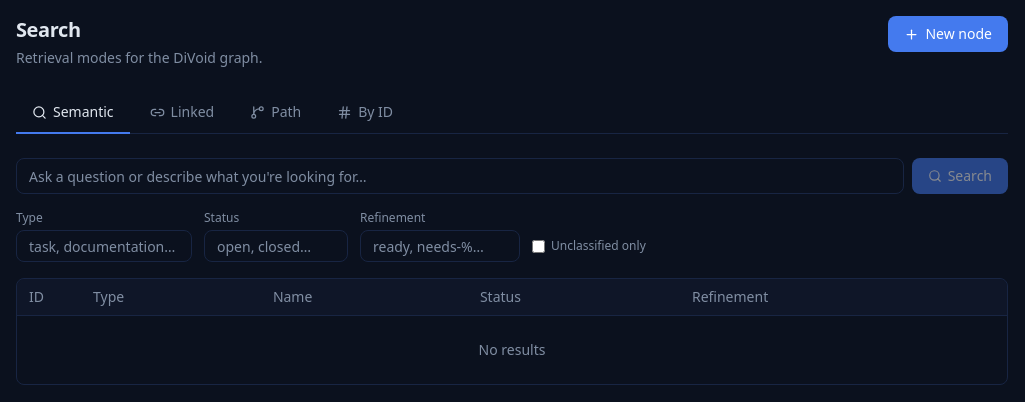
Test case: SearchPage › ST1: switching to By ID tab renders the input and a disabled Open button
What coordinates should you click on to do the following:
click the tab "By ID"
I would click on:
 (365, 113)
Its box is [321,92,409,134].
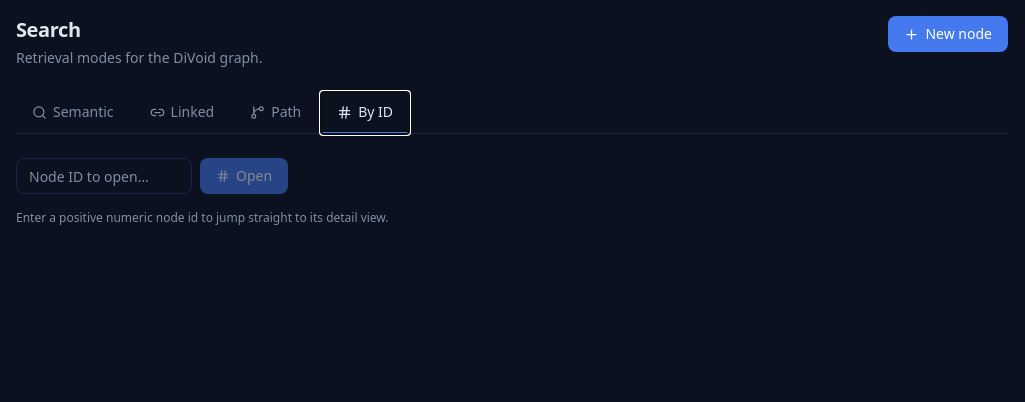
Expected: the button "Open" is disabled, [200,158,288,194]
Result: the number field labelled "Node ID to open…" is shown at [16,158,192,194]
